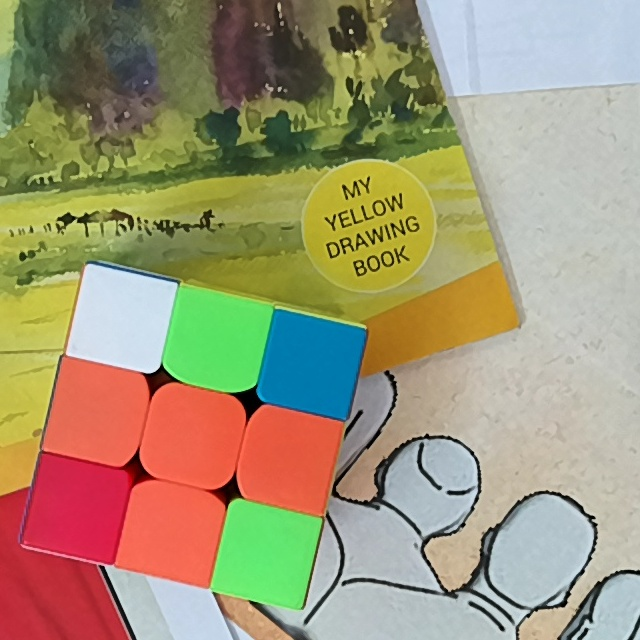tile: (252, 420, 326, 497), (154, 398, 232, 471), (229, 516, 307, 588), (177, 308, 255, 379), (57, 377, 132, 450), (131, 499, 210, 568), (37, 475, 114, 544), (274, 328, 348, 398), (82, 286, 158, 354)
